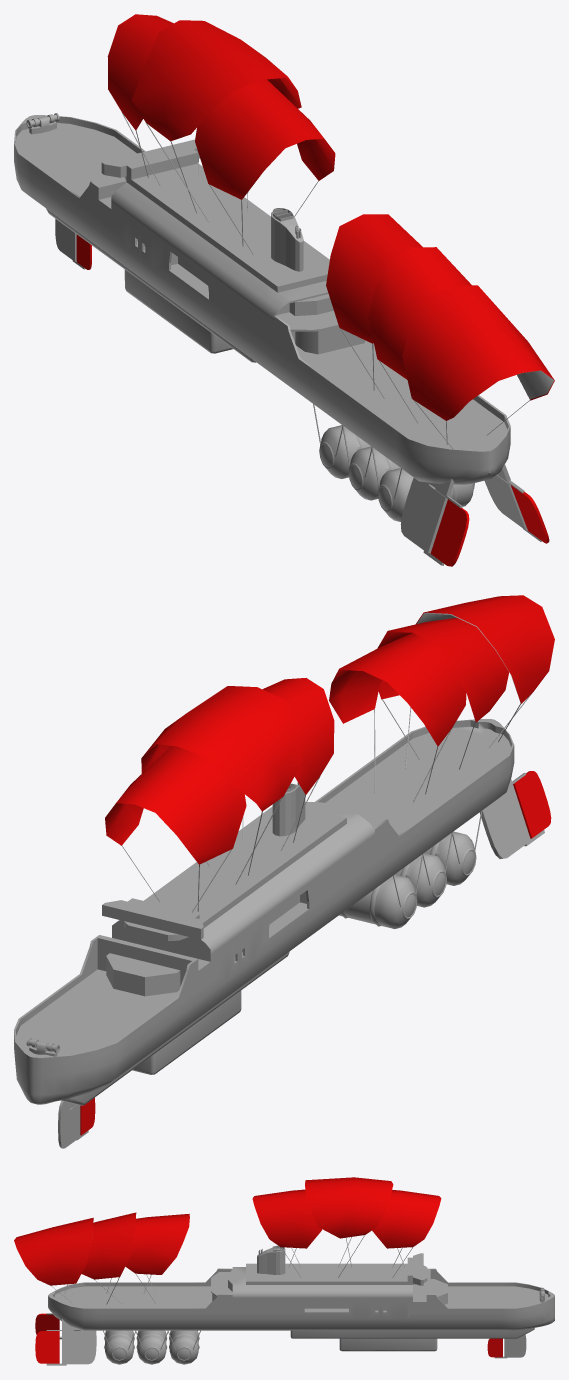
File: ship_merchant_basic_02.FBX
3 views of the same model, one above another, from view 1: azimuth 30°, elevation 25°; view 2: azimuth 150°, elevation 25°; view 3: azimuth 270°, elevation 25° (orthographic). The views are drawn at different scales.
Visible parts, largest first — view 1: ship_merchant_basic_02; view 2: ship_merchant_basic_02; view 3: ship_merchant_basic_02.
Boxes of the visible parts, x1,y1,x2,y2 form: ship_merchant_basic_02: [14, 14, 554, 566]; ship_merchant_basic_02: [14, 595, 554, 1148]; ship_merchant_basic_02: [14, 1177, 554, 1365].
Size of the model in its own units: 1557 by 3818 by 10553.
